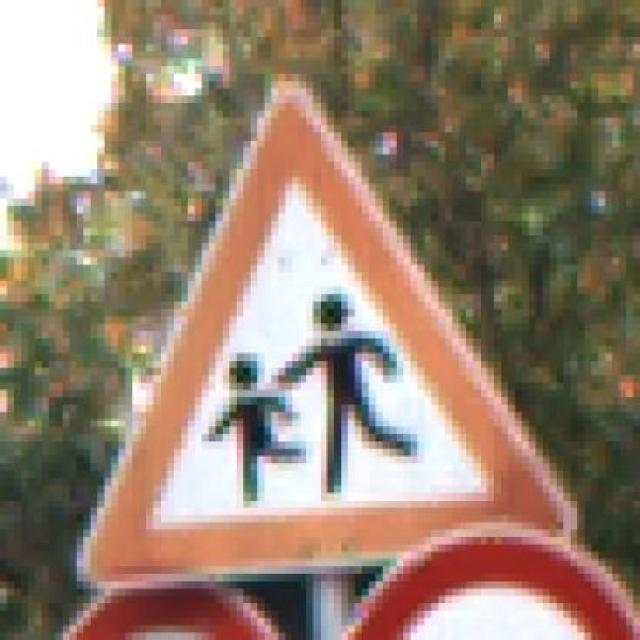Beware of children: (49, 59, 592, 582)
